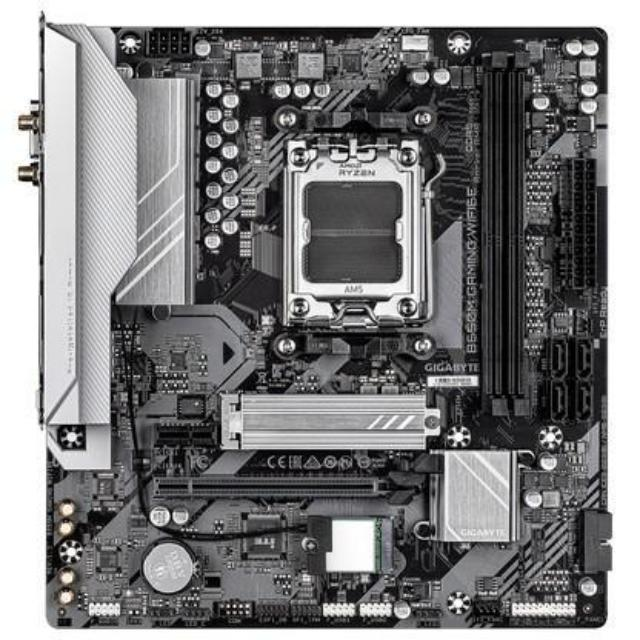Mainboard: (18, 13, 627, 635)
